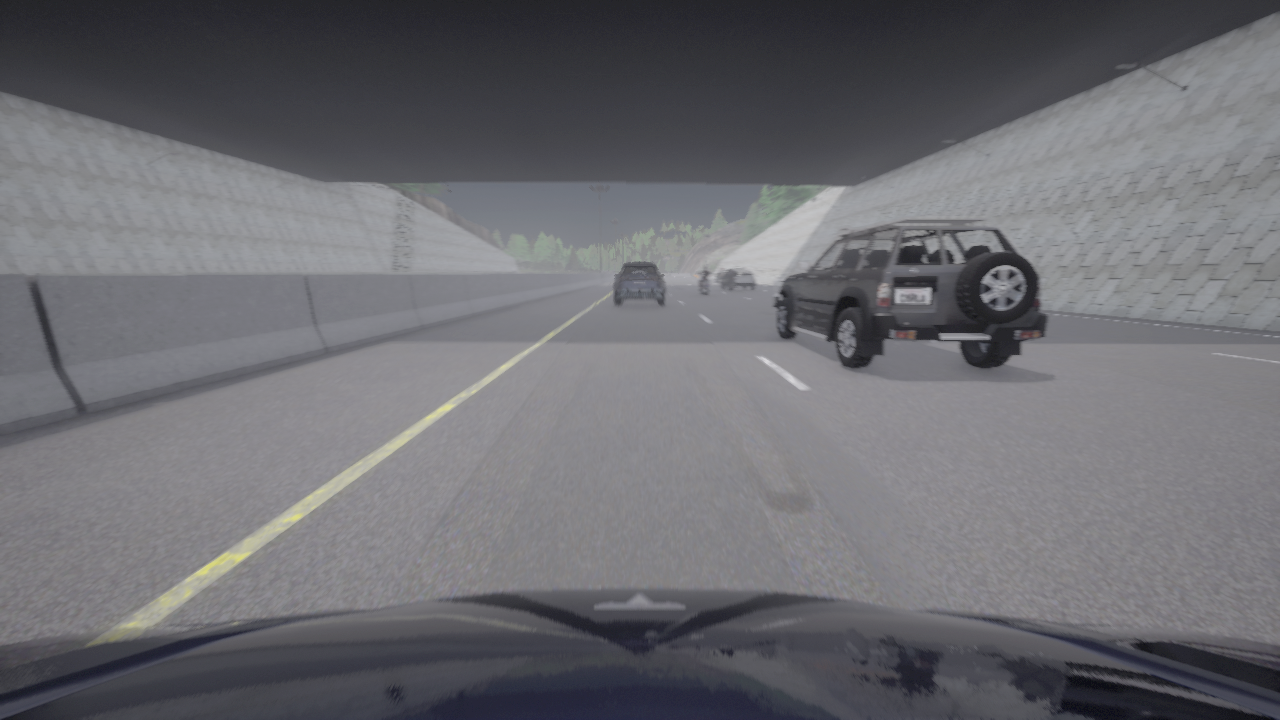cyclist: (0, 588, 1279, 719), (772, 218, 1048, 368), (614, 262, 665, 305), (721, 269, 755, 290), (700, 276, 710, 296), (716, 271, 727, 282)
